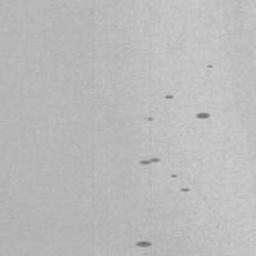Inclusion: (138, 156, 161, 166), (195, 111, 211, 119), (134, 241, 152, 248), (164, 93, 175, 100), (179, 187, 191, 193), (145, 115, 155, 122)
